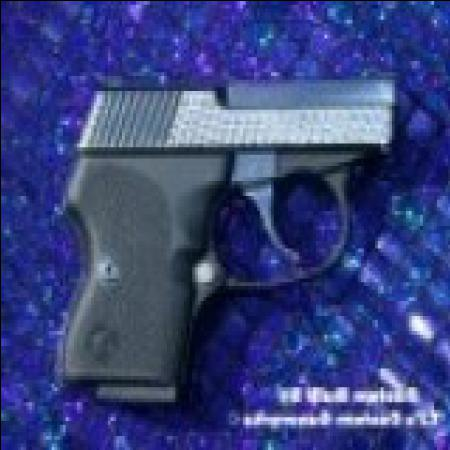Pistol: (56, 64, 405, 398)
